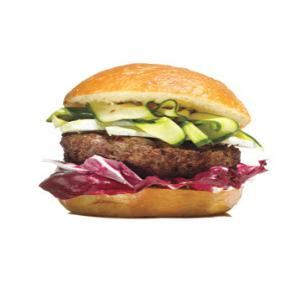cheeseburger: (38, 55, 275, 236)
